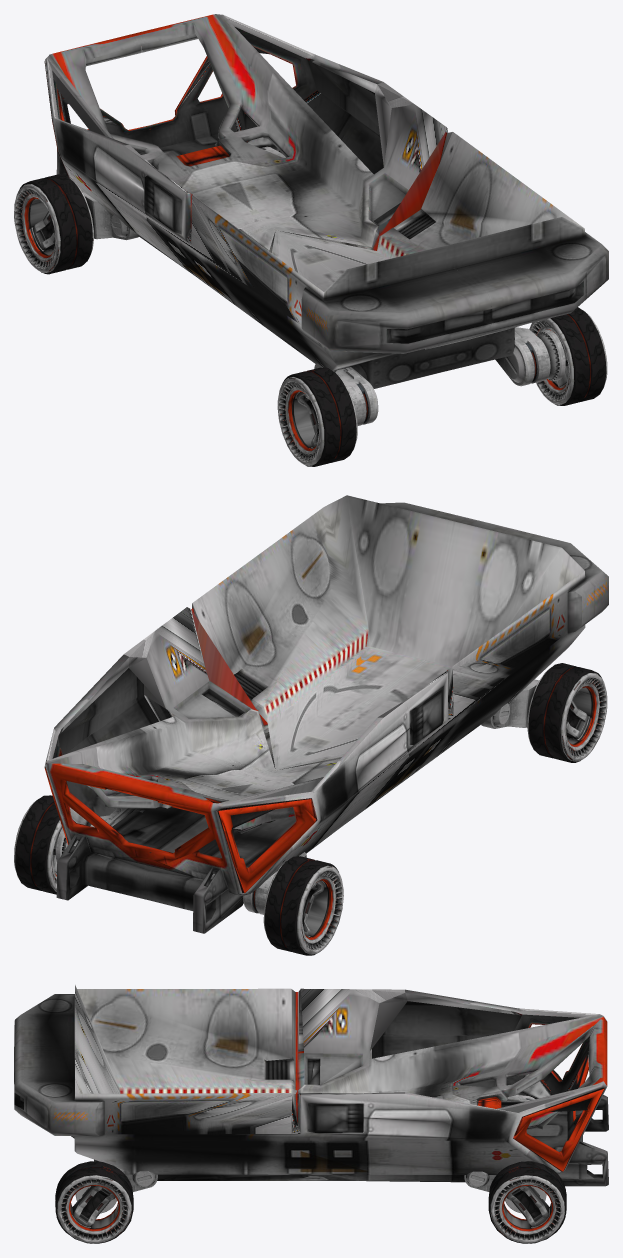
Rendered from lorry.glb.
The picture shows the model from 3 angles, top to bottom: view 1: azimuth 30°, elevation 25°; view 2: azimuth 150°, elevation 25°; view 3: azimuth 270°, elevation 25°; orthographic projection. The views are drawn at different scales.
Visible parts, largest first — view 1: Exoplanet-Rover_Exoplanet-Rover_0, ExoRov_FrontWheel_R_ExoRov_Wheels_0, ExoRov_FrontArm_R_ExoRov_Wheels_0; view 2: Exoplanet-Rover_Exoplanet-Rover_0, ExoRov_FrontWheel_R_ExoRov_Wheels_0, ExoRov_FrontArm_R_ExoRov_Wheels_0; view 3: Exoplanet-Rover_Exoplanet-Rover_0, ExoRov_FrontWheel_R_ExoRov_Wheels_0, ExoRov_FrontArm_R_ExoRov_Wheels_0.
Boxes of the visible parts, x1,y1,x2,y2 form: Exoplanet-Rover_Exoplanet-Rover_0: (44, 14, 608, 388); ExoRov_FrontWheel_R_ExoRov_Wheels_0: (14, 174, 607, 466); ExoRov_FrontArm_R_ExoRov_Wheels_0: (82, 146, 565, 425); Exoplanet-Rover_Exoplanet-Rover_0: (44, 495, 608, 933); ExoRov_FrontWheel_R_ExoRov_Wheels_0: (14, 663, 607, 955); ExoRov_FrontArm_R_ExoRov_Wheels_0: (55, 679, 539, 914); Exoplanet-Rover_Exoplanet-Rover_0: (14, 985, 608, 1186); ExoRov_FrontWheel_R_ExoRov_Wheels_0: (55, 1070, 566, 1243); ExoRov_FrontArm_R_ExoRov_Wheels_0: (75, 1095, 546, 1213).
Size of the model in its own units: 2.36 by 1.54 by 5.17.
2 materials, 2 textured.
